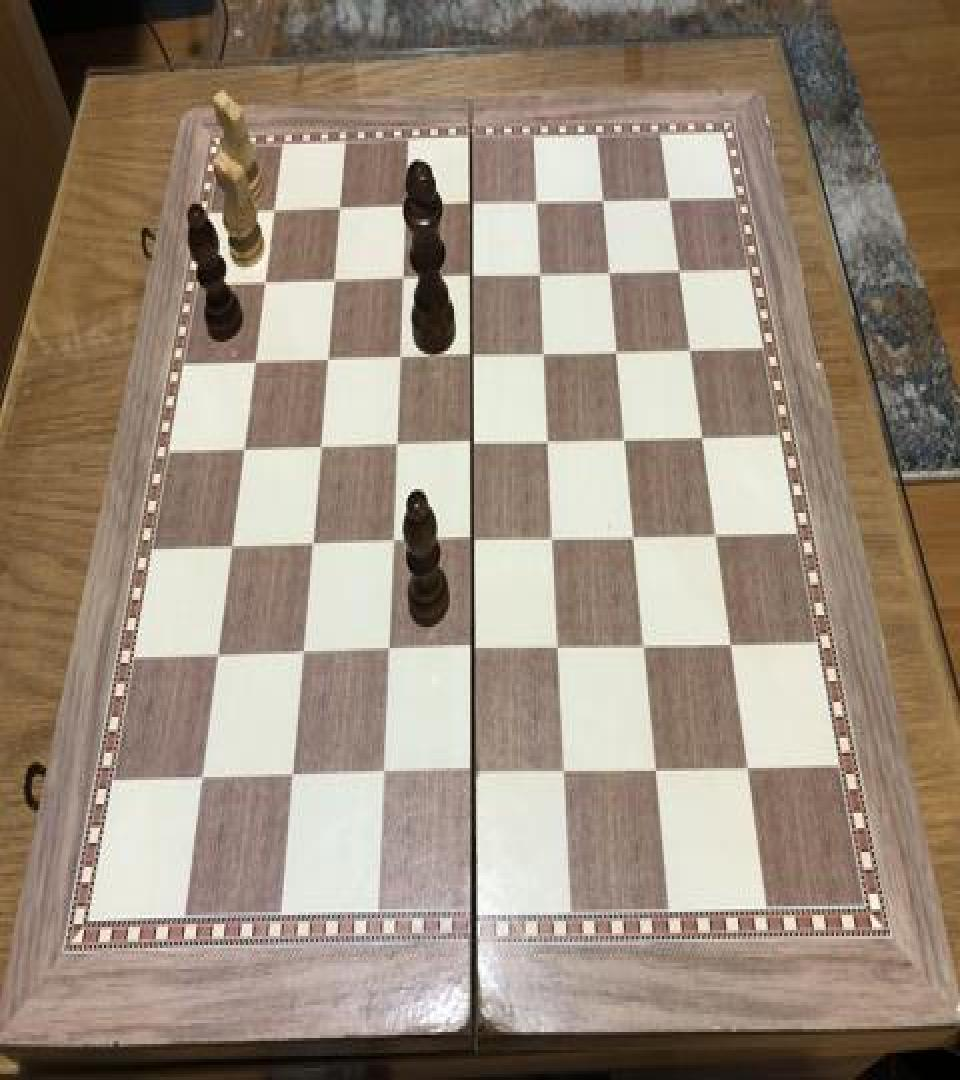xcorner: (621, 520, 645, 557), (289, 637, 313, 674), (735, 754, 759, 791), (188, 763, 212, 800), (658, 180, 682, 216), (591, 182, 615, 218), (525, 184, 549, 220), (459, 186, 483, 222), (394, 189, 418, 225), (329, 192, 353, 228), (264, 194, 288, 230), (667, 252, 691, 288), (598, 254, 622, 290), (528, 256, 552, 292), (459, 258, 483, 294), (391, 261, 415, 297), (322, 264, 346, 300), (254, 266, 278, 302), (678, 332, 702, 368), (605, 333, 629, 369), (532, 336, 556, 372), (459, 338, 483, 374), (387, 340, 411, 376), (315, 342, 339, 378), (244, 345, 268, 381), (690, 420, 714, 456), (613, 422, 637, 458), (536, 424, 560, 460), (459, 426, 483, 462), (383, 428, 407, 464), (232, 432, 256, 468), (703, 518, 727, 554), (540, 522, 564, 558), (459, 524, 483, 560), (379, 526, 403, 562), (299, 528, 323, 564), (219, 530, 243, 566), (718, 628, 742, 664), (631, 630, 655, 666), (545, 633, 569, 669), (459, 634, 483, 670), (374, 636, 398, 672), (205, 639, 229, 675), (643, 756, 667, 792), (551, 758, 575, 794), (459, 759, 483, 795), (368, 760, 392, 796), (278, 762, 302, 798), (307, 431, 331, 466)
